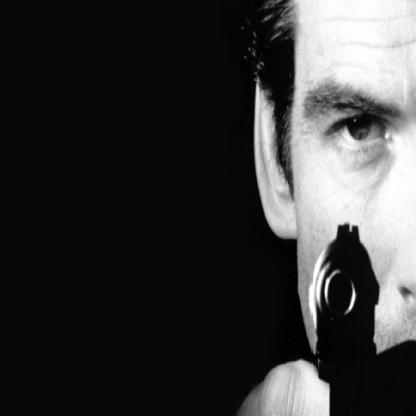gun: (296, 214, 394, 415)
